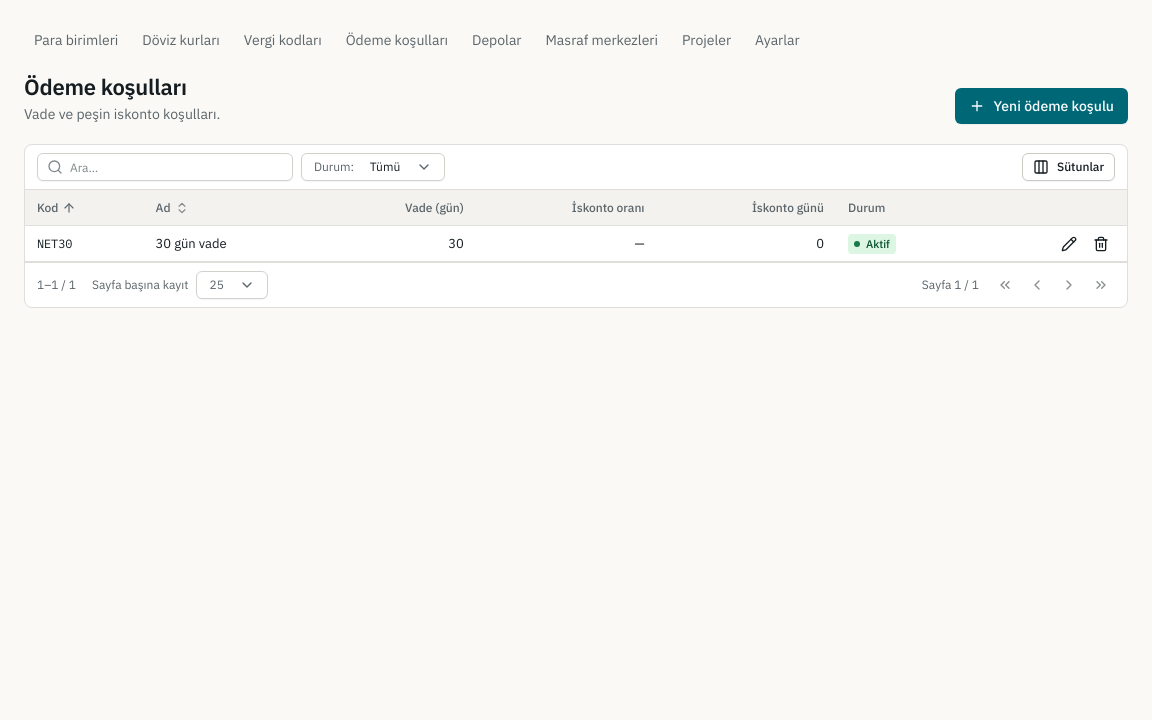
it: conflict reload › shows a failure when the reload cannot read the record and recovers on retry
Click the button named "NET30 kaydını düzenle": click(1069, 244) [1055,230,1083,258]
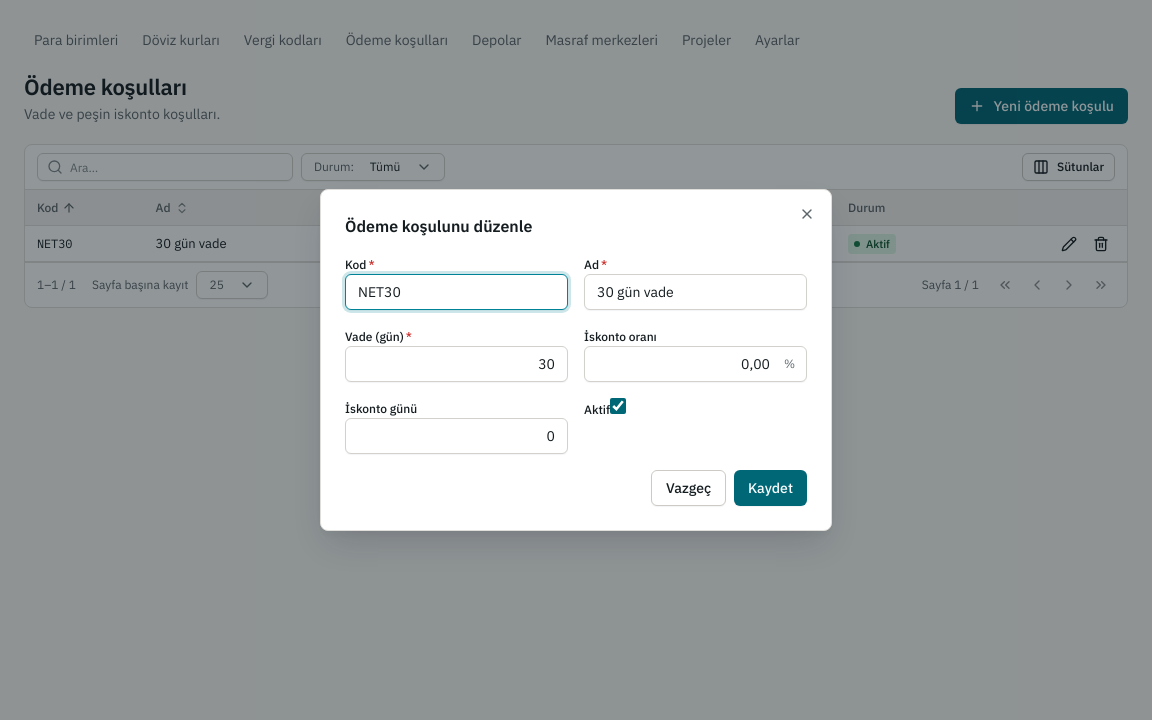
Click the button "Kaydet": click(771, 488) [734,470,807,506]
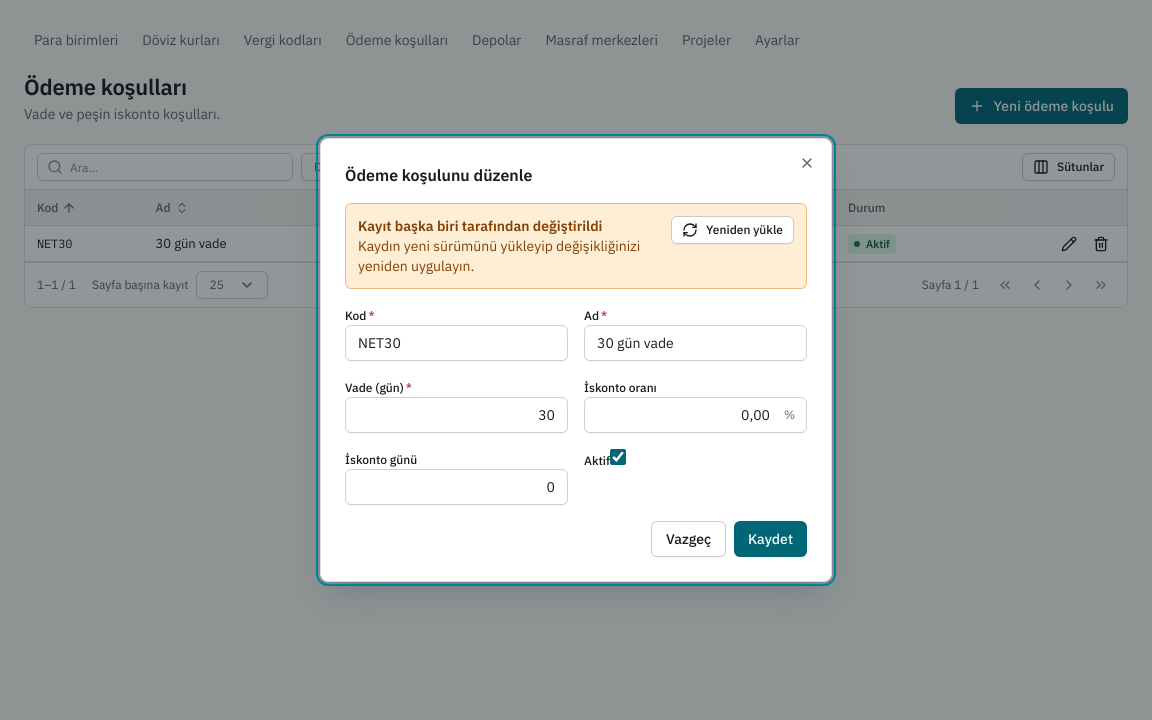
Check: the text "Kayıt başka biri tarafından değiştirildi" is shown, box [358,217,602,235]
Click the button "Yeniden yükle": click(733, 230) [671,216,794,244]
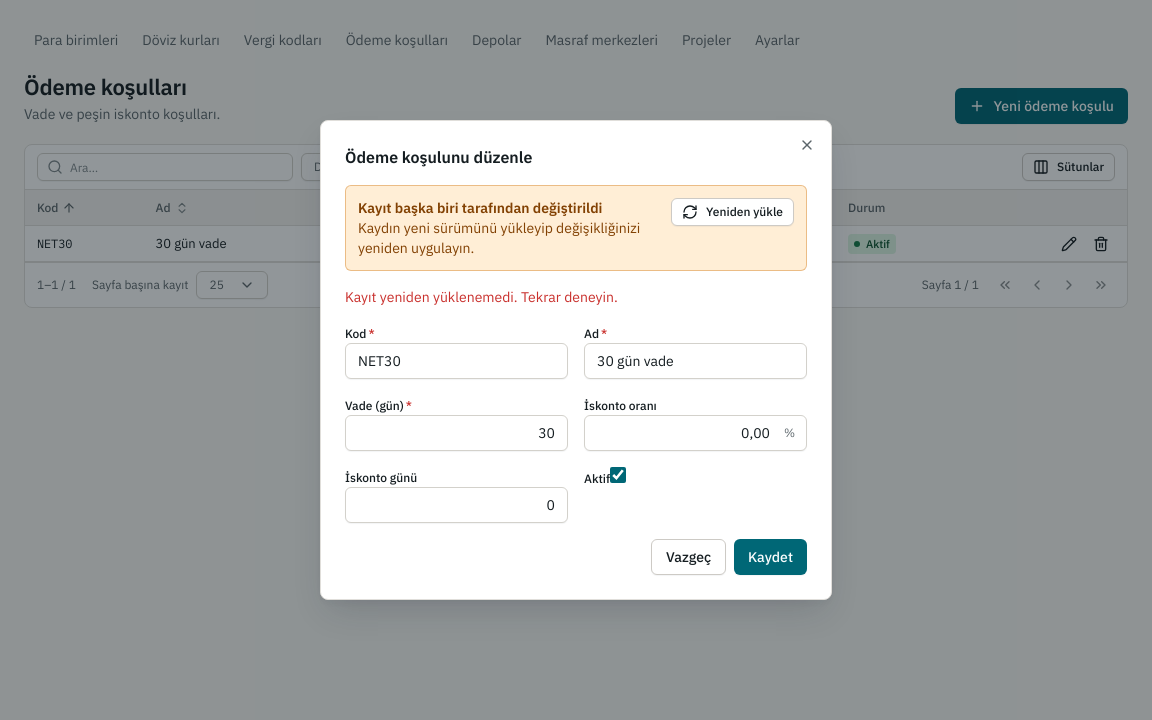
Check: the text "Kayıt yeniden yüklenemedi. Tekrar deneyin." is shown, box [345,288,618,306]
// The conflict prompt stays so the user can try again.
Click the button "Yeniden yükle": click(733, 212) [671,198,794,226]
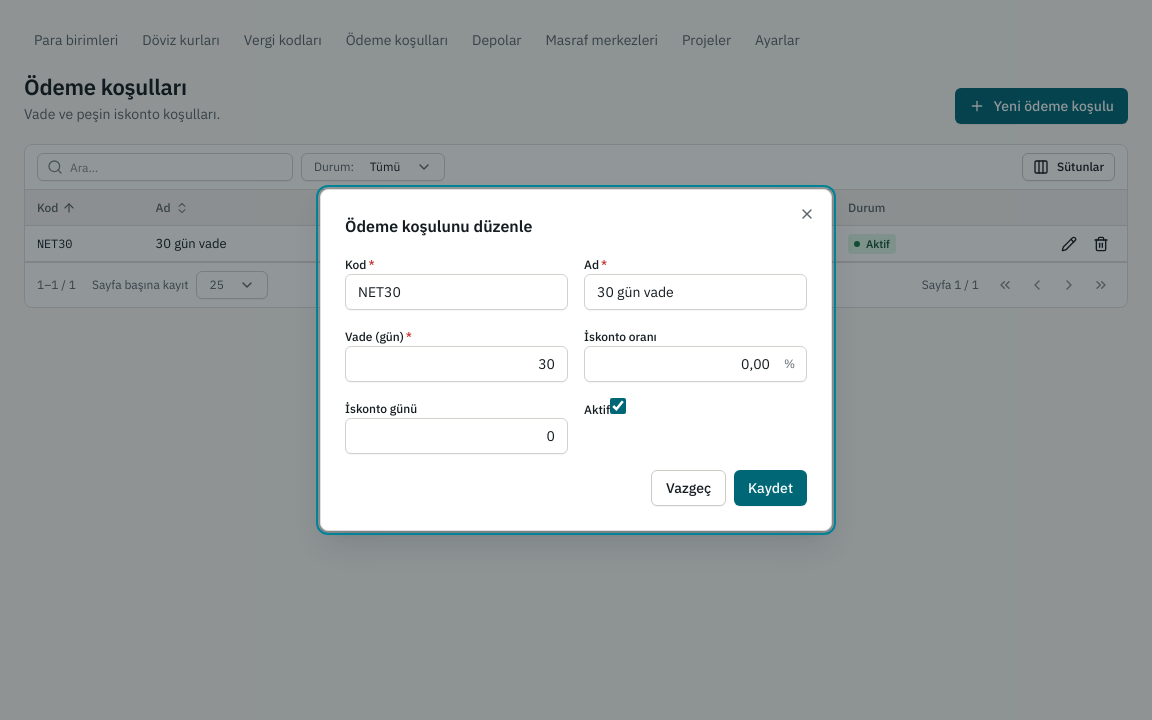
Check: the text "Kayıt başka biri tarafından değiştirildi" is gone
